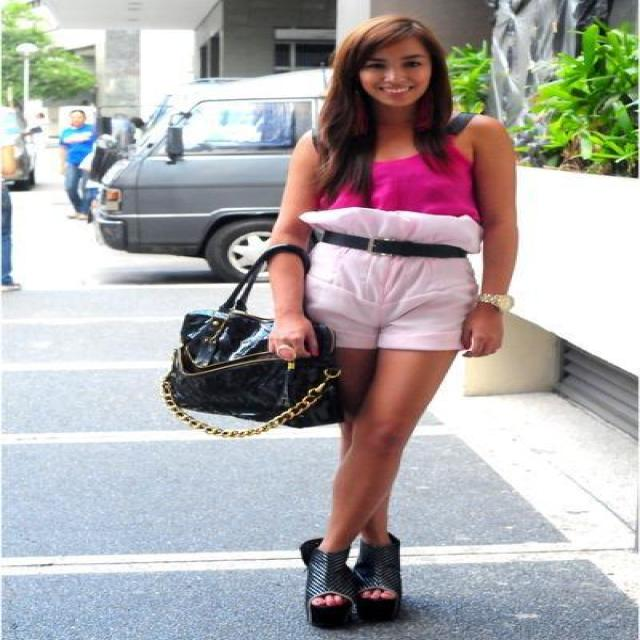bag: (162, 252, 346, 450)
shirt: (300, 141, 478, 243)
shoe: (299, 534, 408, 630)
shorts: (288, 242, 478, 349)
